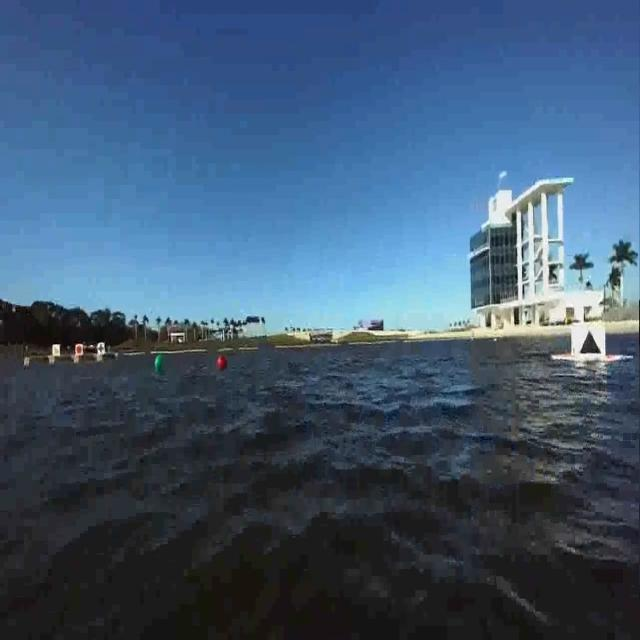green-column-buoy: (154, 353, 163, 370)
red-buoy: (217, 355, 227, 370)
